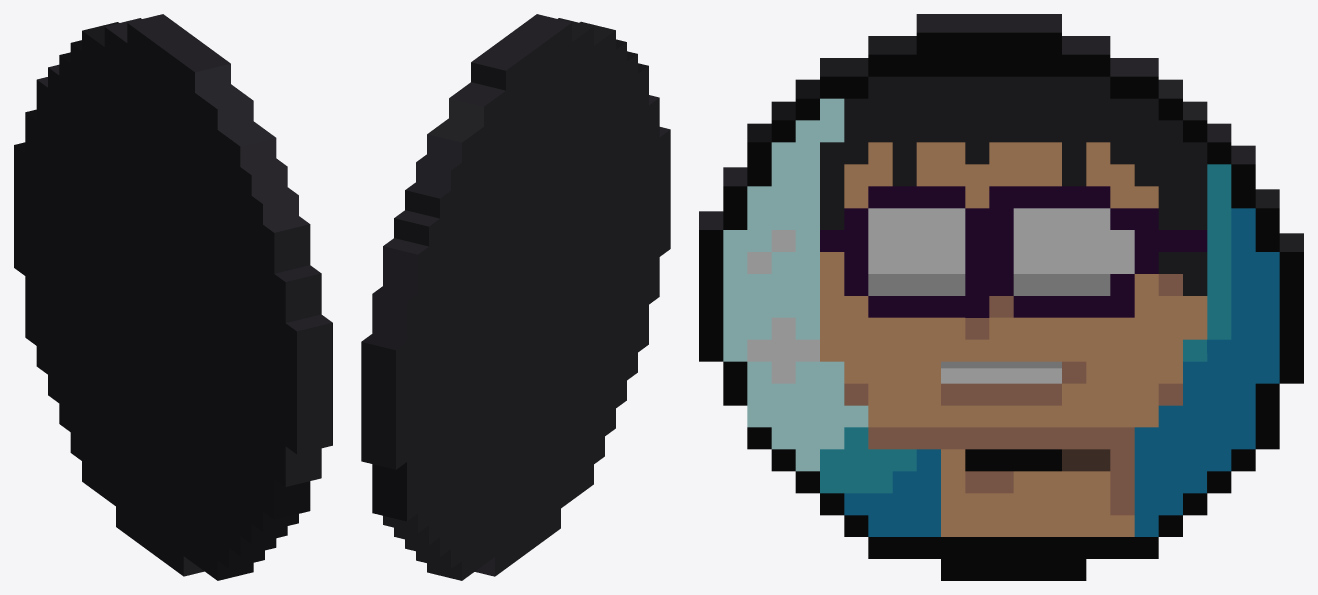
Rendered from Coin.glb.
3 views of the same model, side by side, from view 1: azimuth 30°, elevation 25°; view 2: azimuth 150°, elevation 25°; view 3: azimuth 270°, elevation 25° (orthographic). The views are drawn at different scales.
Parts seen in each view (by area): view 1: Icon; view 2: Icon; view 3: Icon.
Part boxes in pixels (left/top/right/bottom): Icon: left=14, top=14, right=332, bottom=580; Icon: left=361, top=14, right=670, bottom=580; Icon: left=699, top=14, right=1303, bottom=580.
Bounding box in the file's own units: 0.1468 × 2 × 2.
